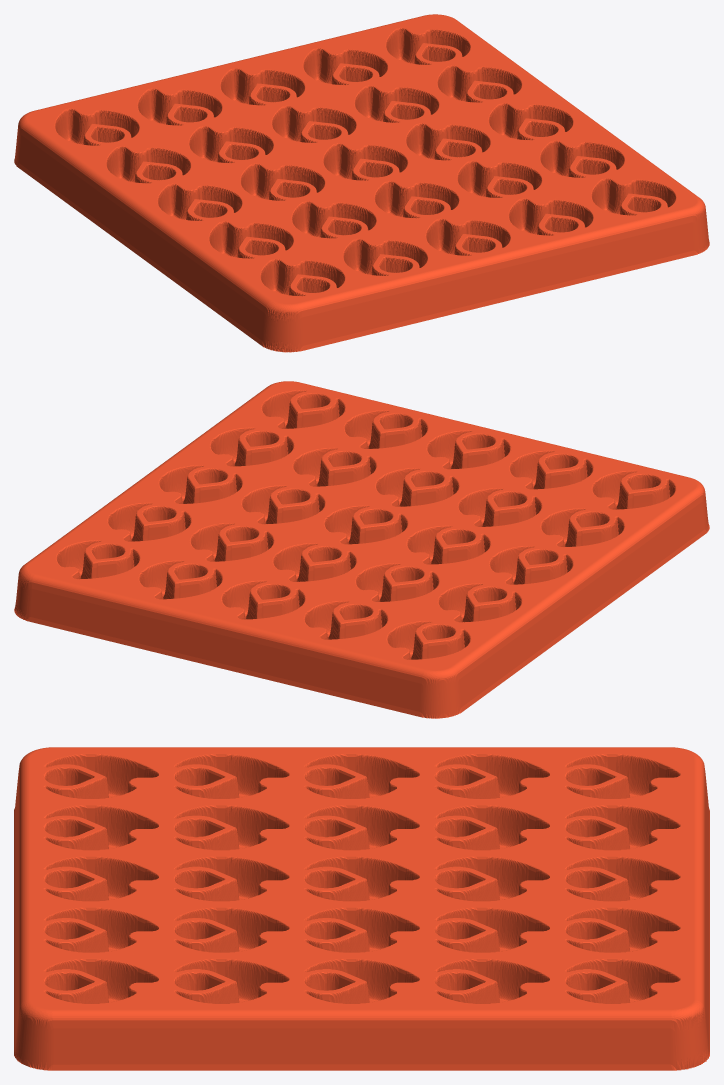
File: mold.glb
The picture shows the model from 3 angles, top to bottom: view 1: azimuth 30°, elevation 25°; view 2: azimuth 150°, elevation 25°; view 3: azimuth 270°, elevation 25°; orthographic projection. The views are drawn at different scales.
Parts seen in each view (by area): view 1: geometry_0; view 2: geometry_0; view 3: geometry_0.
Boxes of the visible parts, left/top/right/bottom form: geometry_0: left=14, top=14, right=709, bottom=352; geometry_0: left=14, top=381, right=709, bottom=718; geometry_0: left=14, top=747, right=709, bottom=1070.
Bounding box in the file's own units: 0.148 × 0.0136 × 0.1584.
